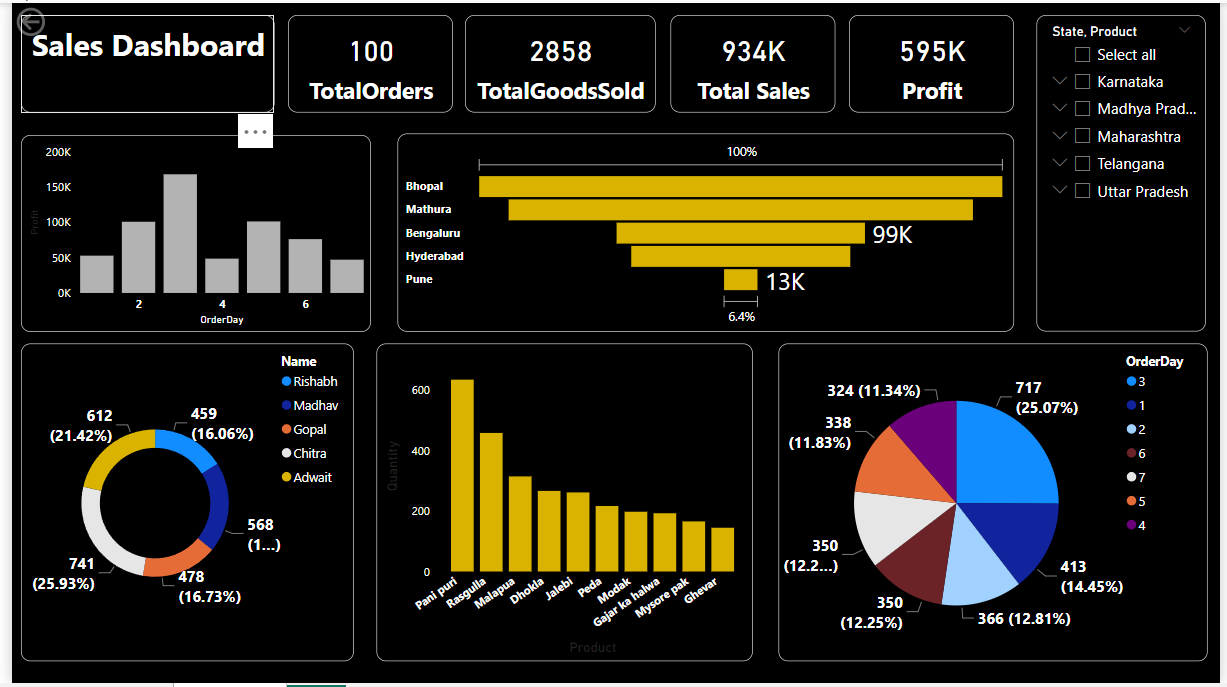

The dashboard page shown, as its layout file describes it:
{"tool":"powerbi","page":{"name":"Page 1","canvas":[1280,720],"ordinal":0},"visuals":[{"type":"donutChart","fields":{"Category":["Customers.Name"],"Y":["Orders.Quantity"]},"box":[9.5,360.8,352.8,337],"z":3000},{"type":"lineStackedColumnComboChart","fields":{"Category":["Orders.Product"],"Y":["Orders.Quantity"]},"box":[386.2,360.8,398.9,337],"z":4000},{"type":"funnel","fields":{"Category":["Customers.City"],"Y":["Orders.Profit"]},"box":[408.5,138.3,653.2,209.8],"z":5000},{"type":"actionButton","box":[0,0,100,40],"z":6000},{"type":"columnChart","fields":{"Category":["Customers.OrderDay"],"Y":["Orders.Profit"]},"box":[9.7,139.1,370.5,208.7],"z":7000},{"type":"pieChart","fields":{"Category":["Customers.OrderDay","Orders.Product"],"Y":["Orders.Quantity"]},"box":[812.2,360.8,454.6,337],"z":8000},{"type":"slicer","fields":{"Values":["Customers.State","Orders.Product"]},"box":[1085.6,12.7,179.6,335.4],"z":10000},{"type":"card","fields":{"Values":["Orders.TotalOrders"]},"box":[292.5,12.7,174.8,103.3],"z":10001},{"type":"card","fields":{"Values":["Orders.TotalGoodsSold"]},"box":[480,12.7,201.9,103.3],"z":10002},{"type":"card","fields":{"Values":["Orders.Total Sales"]},"box":[697.7,12.7,174.8,103.3],"z":10003},{"type":"card","fields":{"Values":["Orders.Profit"]},"box":[886.9,12.7,174.8,103.3],"z":10004},{"type":"textbox","box":[9.5,12.7,268.6,103.3],"z":10005}]}

Visuals, with their boxes in screenshot pixels (x1, y1, x2, y2), scaled from the page's 1280x720 canvas onto the 1227x687 screenshot:
donutChart - Customers.Name x Orders.Quantity: Rect(9, 344, 347, 666)
lineStackedColumnComboChart - Orders.Product x Orders.Quantity: Rect(370, 344, 753, 666)
funnel - Customers.City x Orders.Profit: Rect(392, 132, 1018, 332)
actionButton: Rect(0, 0, 96, 38)
columnChart - Customers.OrderDay x Orders.Profit: Rect(9, 133, 364, 332)
pieChart - Customers.OrderDay x Orders.Product: Rect(779, 344, 1214, 666)
slicer - Customers.State x Orders.Product: Rect(1041, 12, 1213, 332)
card - Orders.TotalOrders: Rect(280, 12, 448, 111)
card - Orders.TotalGoodsSold: Rect(460, 12, 654, 111)
card - Orders.Total Sales: Rect(669, 12, 836, 111)
card - Orders.Profit: Rect(850, 12, 1018, 111)
textbox: Rect(9, 12, 267, 111)
